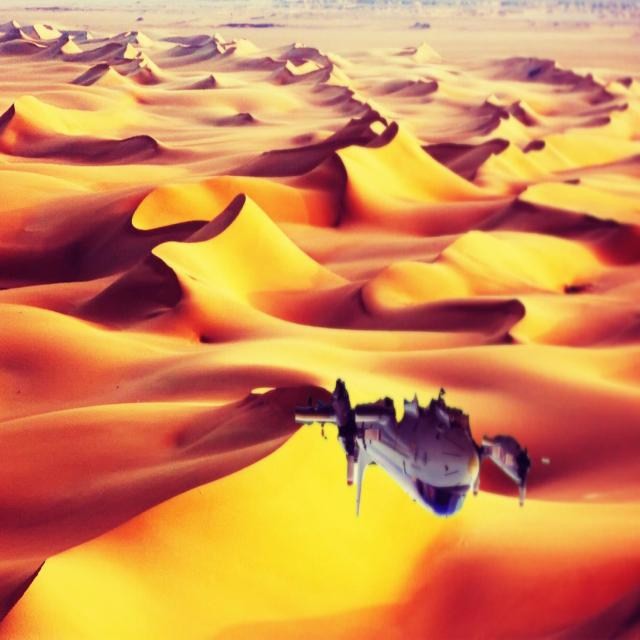airplane: (294, 377, 531, 518)
